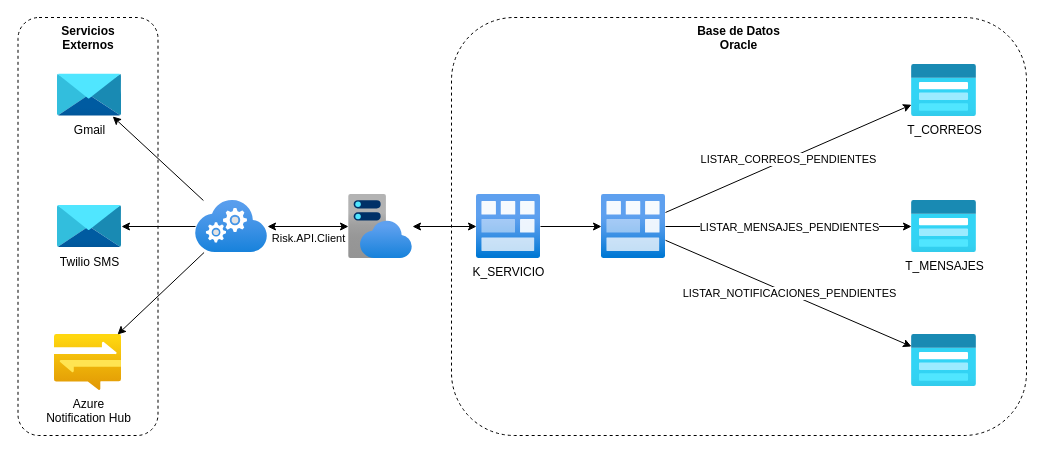
The diagram is 1044 pixels wide and 453 high, and some of its shapes have lost their labels. Here are the shapes that lost their labels. From the top down, the centre of each, then its label:
At point (231, 226): "Risk.Msj".
At point (380, 226): "Risk.API".
At point (633, 226): "K_SERVICIO_MSJ".
At point (943, 360): "T_NOTIFICACIONES".
